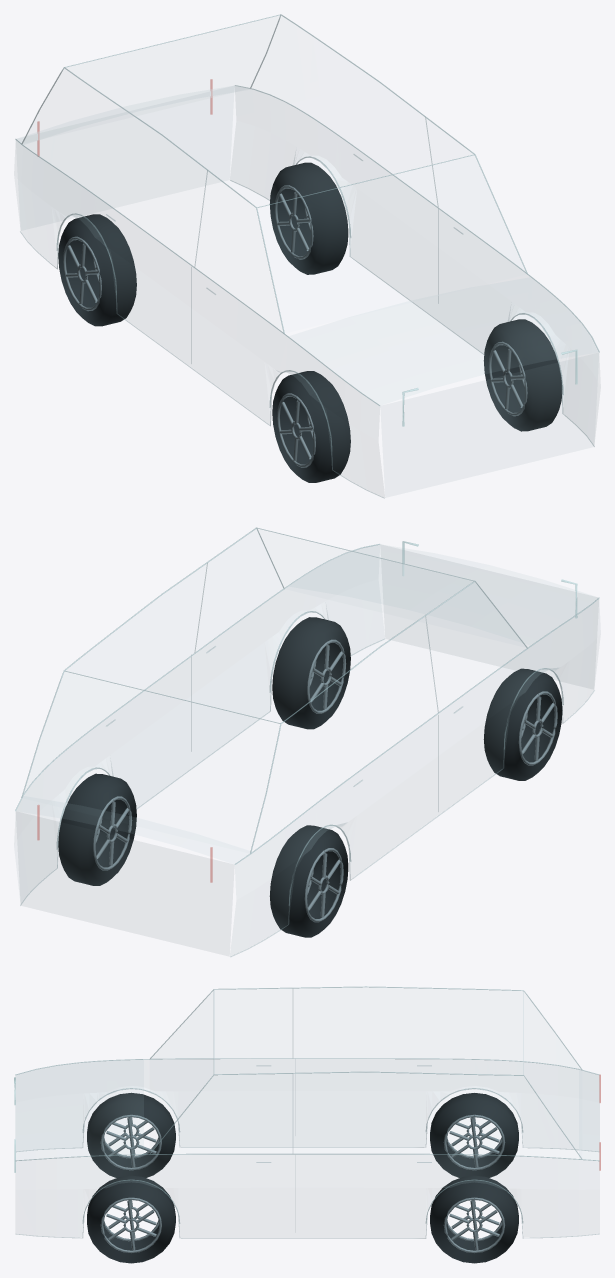
Rendered from hyundai_palisade.glb.
The picture shows the model from 3 angles, top to bottom: view 1: azimuth 30°, elevation 25°; view 2: azimuth 150°, elevation 25°; view 3: azimuth 270°, elevation 25°; orthographic projection. The views are drawn at different scales.
Visible parts, largest first — view 1: shell_body, shell_tyre_right_rear, shell_tyre_right_front, shell_tyre_left_rear, shell_tyre_left_front, shell_contours, shell_details, shell_rim_right_rear, shell_rim_right_front, shell_rim_left_front, shell_rim_left_rear; view 2: shell_body, shell_tyre_right_front, shell_tyre_left_rear, shell_tyre_right_rear, shell_tyre_left_front, shell_contours, shell_details, shell_rim_right_rear, shell_rim_right_front, shell_rim_left_rear, shell_rim_left_front; view 3: shell_body, shell_contours, shell_tyre_left_front, shell_tyre_left_rear, shell_tyre_right_rear, shell_tyre_right_front, shell_rim_left_rear, shell_rim_left_front, shell_rim_right_rear, shell_rim_right_front, shell_details.
Boxes of the visible parts, box(x1,y1,x2,y2) form: shell_body: box(16, 86, 598, 462); shell_tyre_right_rear: box(58, 214, 136, 326); shell_tyre_right_front: box(272, 371, 350, 482); shell_tyre_left_rear: box(269, 162, 348, 274); shell_tyre_left_front: box(483, 319, 562, 431); shell_contours: box(15, 14, 599, 451); shell_details: box(20, 117, 594, 498); shell_rim_right_rear: box(63, 236, 101, 311); shell_rim_right_front: box(277, 393, 315, 467); shell_rim_left_front: box(488, 341, 527, 416); shell_rim_left_rear: box(274, 185, 313, 259); shell_body: box(16, 545, 598, 918); shell_tyre_right_front: box(483, 668, 562, 780); shell_tyre_left_rear: box(58, 773, 136, 885); shell_tyre_right_rear: box(269, 825, 348, 937); shell_tyre_left_front: box(272, 617, 350, 729); shell_contours: box(15, 527, 599, 905); shell_details: box(20, 563, 594, 956); shell_rim_right_rear: box(304, 848, 343, 922); shell_rim_right_front: box(518, 691, 557, 765); shell_rim_left_rear: box(93, 796, 132, 870); shell_rim_left_front: box(307, 639, 346, 713); shell_body: box(15, 1060, 599, 1190); shell_contours: box(15, 986, 599, 1223); shell_tyre_left_front: box(87, 1175, 175, 1263); shell_tyre_left_rear: box(430, 1175, 518, 1263); shell_tyre_right_rear: box(430, 1093, 518, 1177); shell_tyre_right_front: box(87, 1092, 175, 1177); shell_rim_left_rear: box(443, 1197, 505, 1252); shell_rim_left_front: box(100, 1197, 161, 1252); shell_rim_right_rear: box(443, 1114, 505, 1170); shell_rim_right_front: box(100, 1114, 161, 1170); shell_details: box(16, 1065, 599, 1238).
Size of the model in its own units: 1.99 by 1.81 by 5.08.
